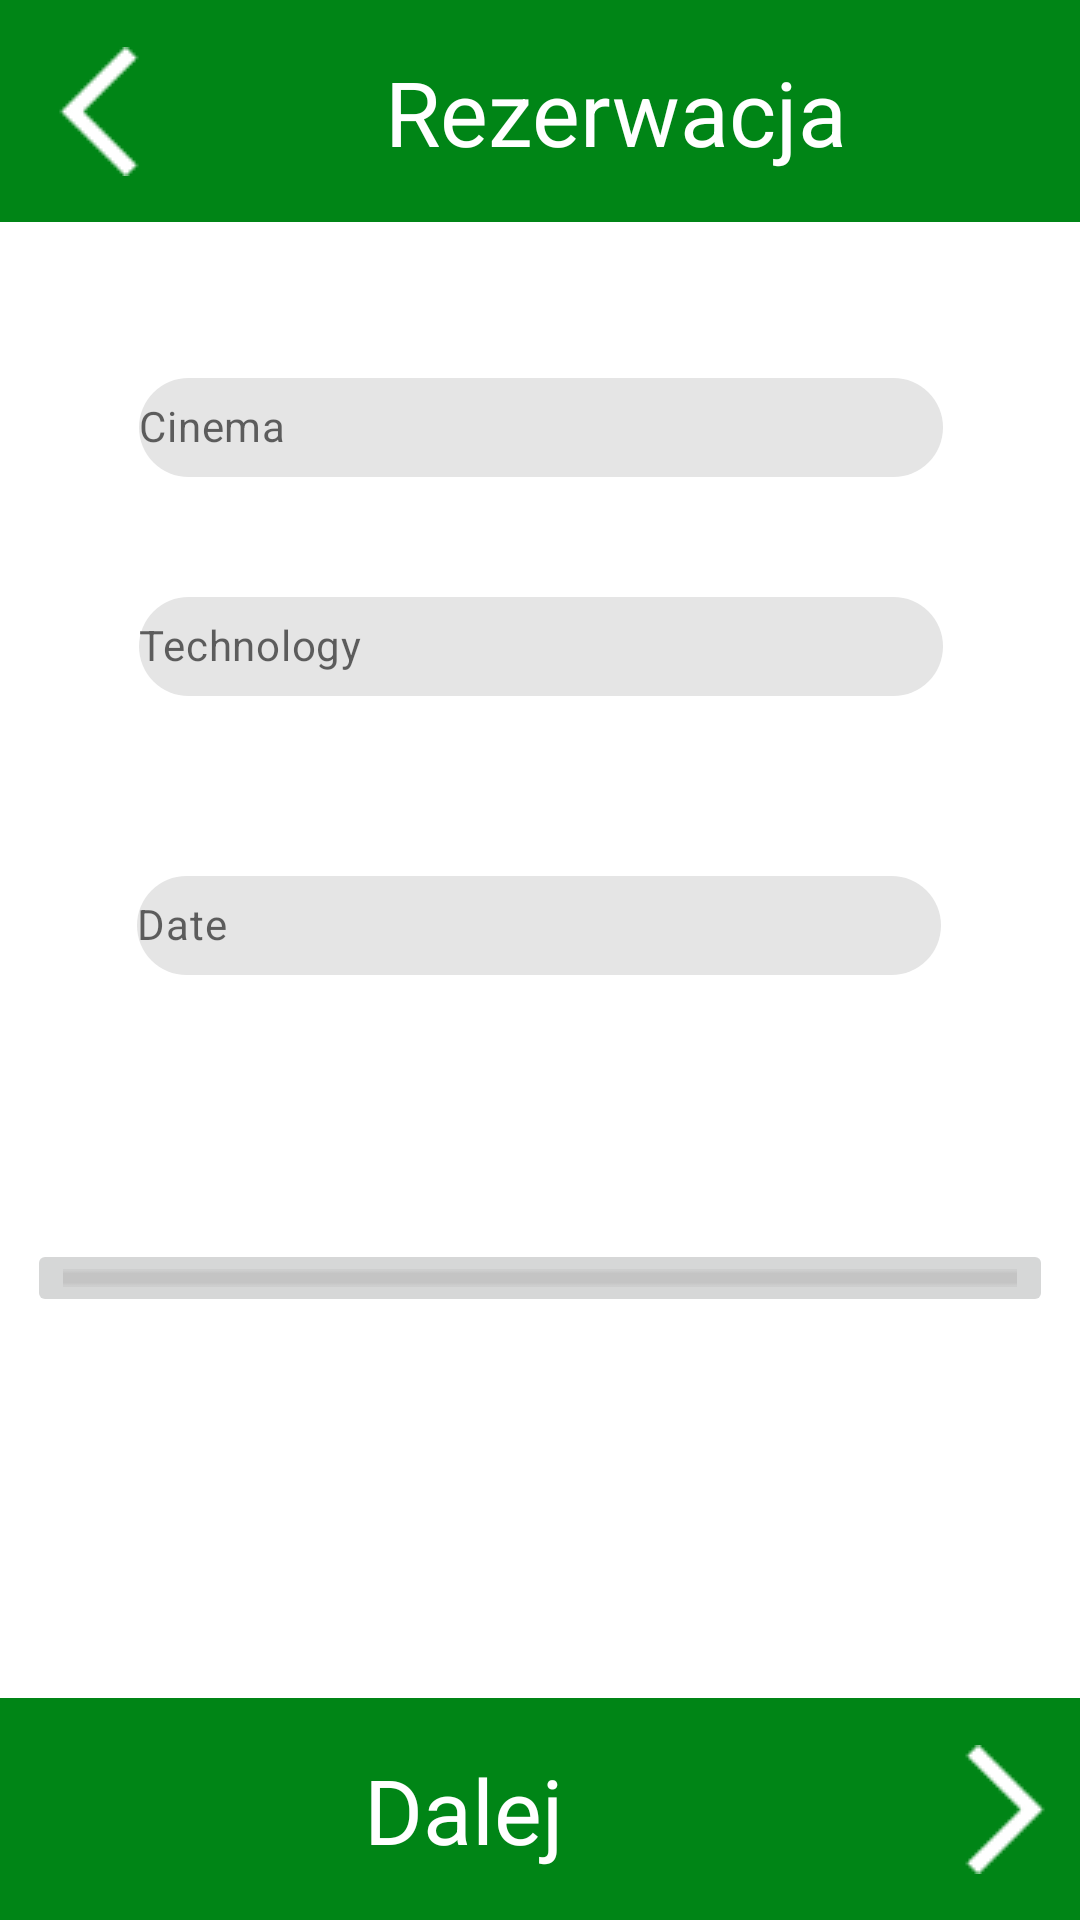

Named icons in this screenshot (1080w x 1920h) and their bounding boxes, bbox(x1, y1, x2, y2):
go back: bbox(59, 47, 139, 176)
go forward: bbox(965, 1745, 1045, 1874)
